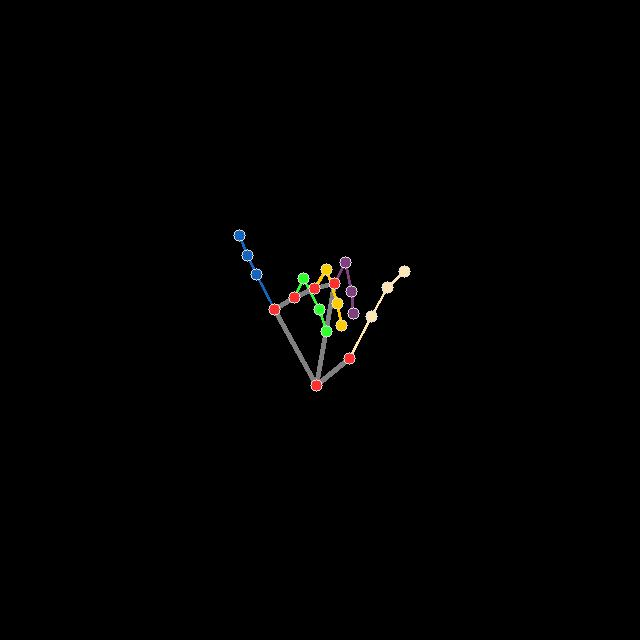skr: (231, 227, 411, 392)
